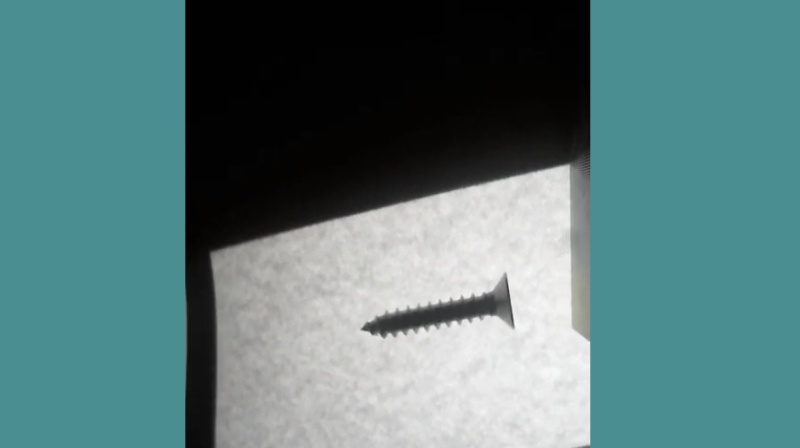S001: (358, 266, 516, 344)
